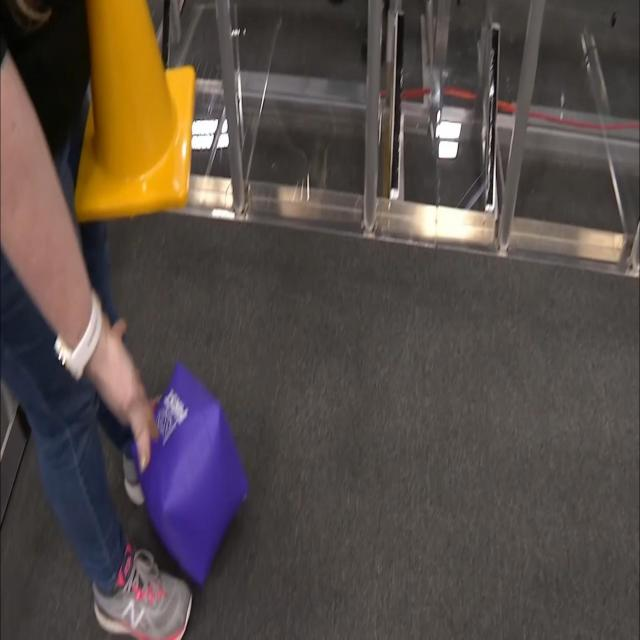frc_cone: (63, 0, 194, 223)
frc_cube: (132, 353, 245, 583)
